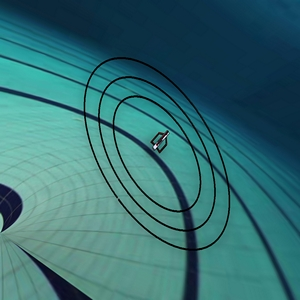circle: (73, 44, 251, 265)
submarine: (141, 126, 179, 165)
